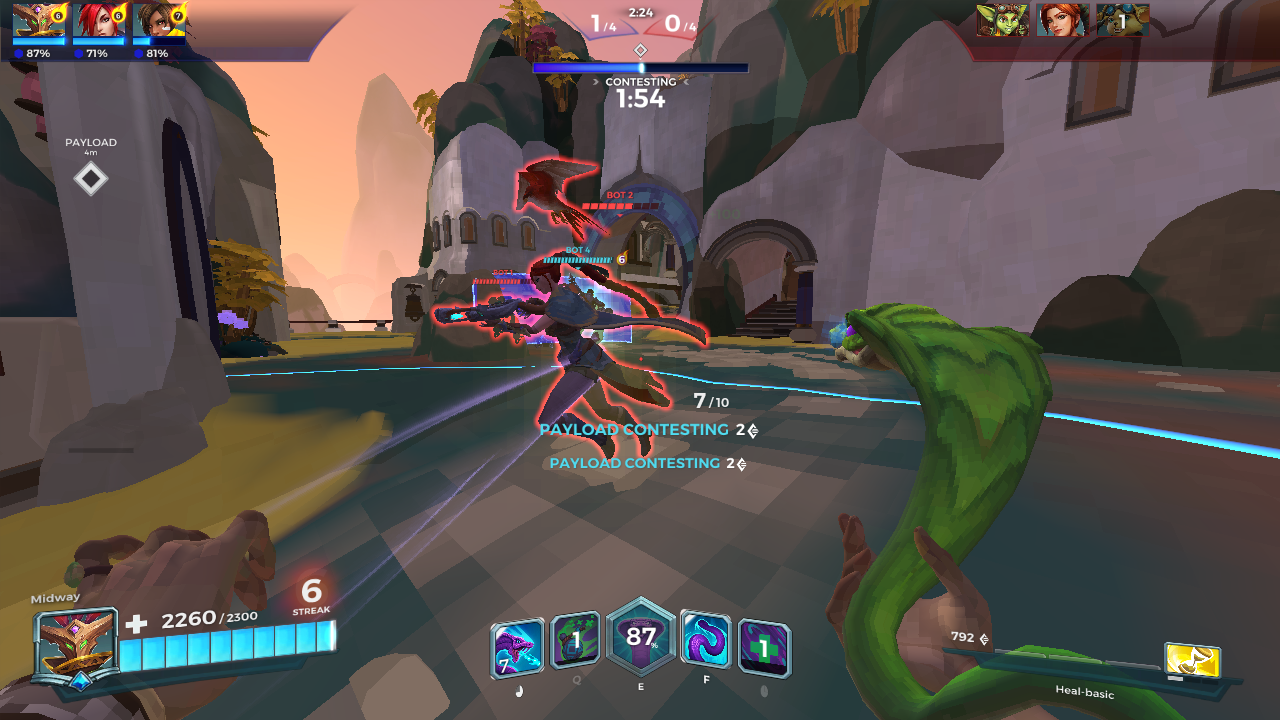model: (429, 243, 714, 442)
